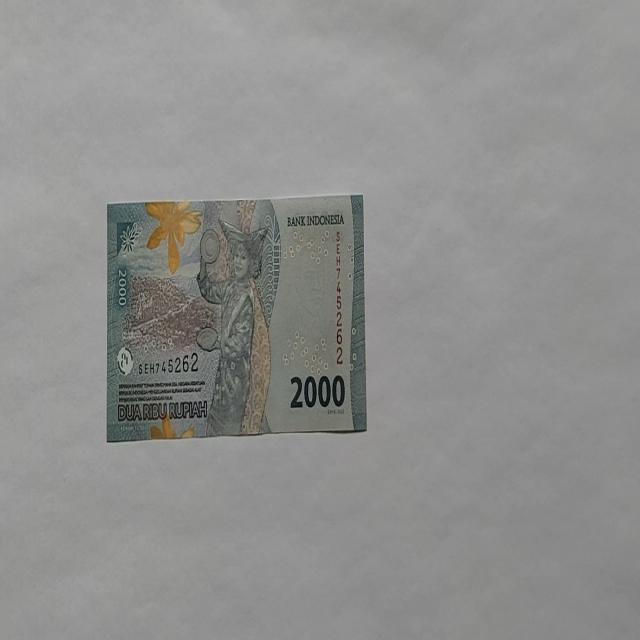dua ribu rupiah: (105, 193, 367, 441), (194, 218, 272, 436)
